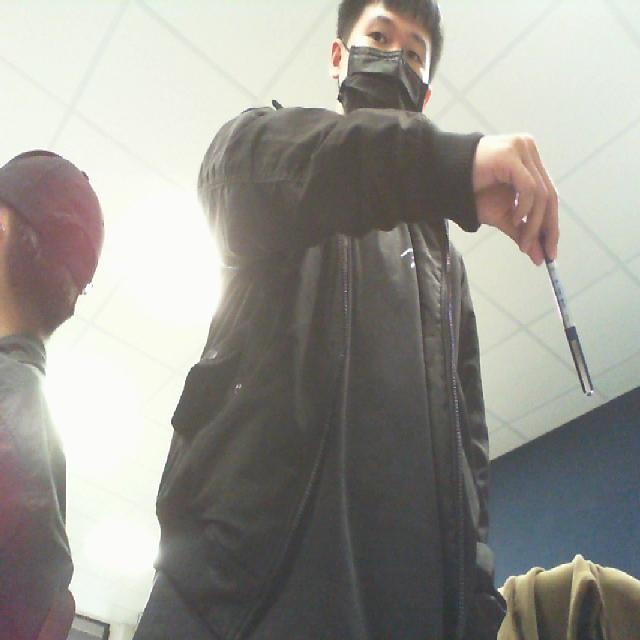Pen: (526, 215, 600, 413)
